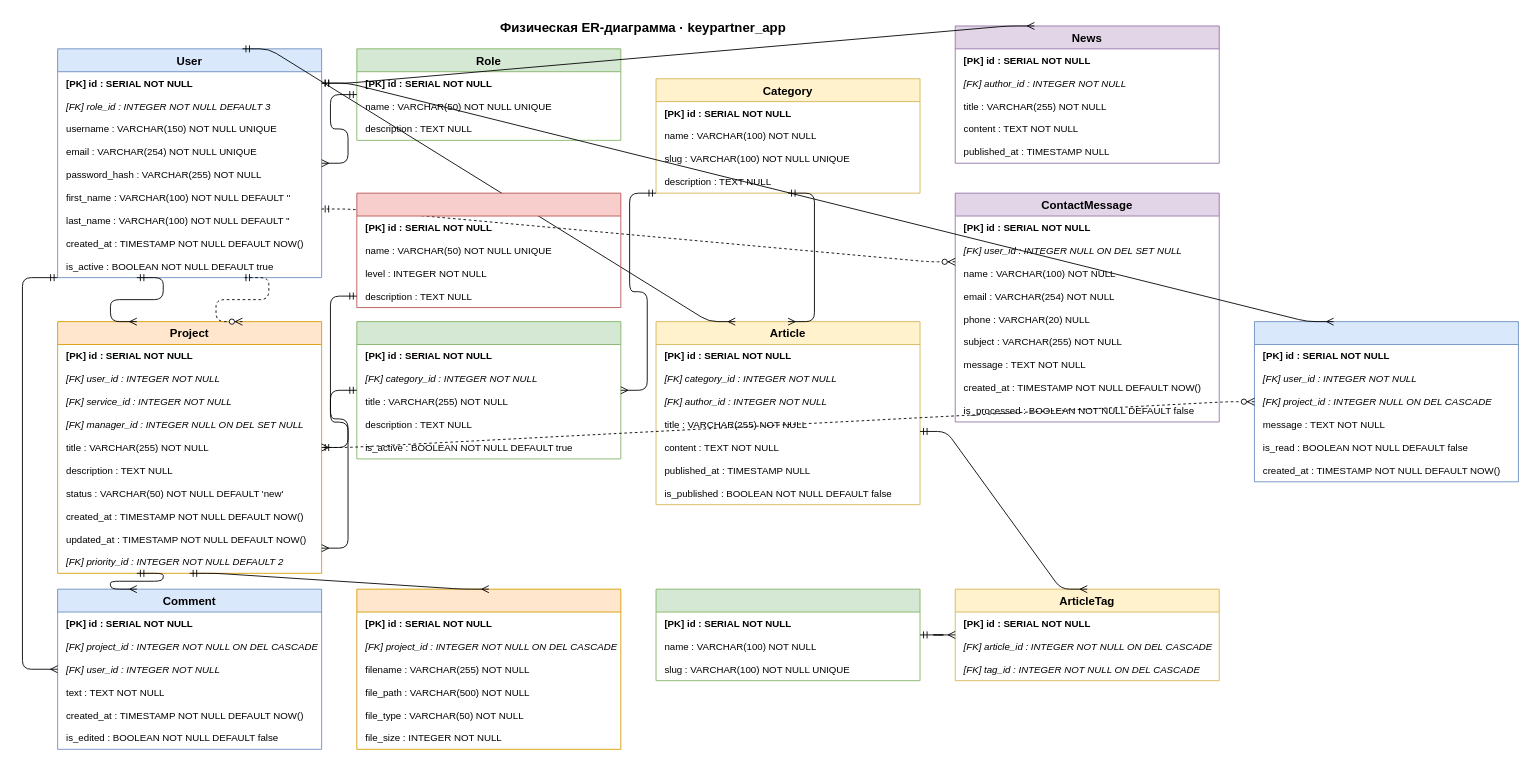
Some shapes in this 1534 by 765 pixel diagram are drawn without their labels. The box of each missing label's shape, as (x1, y1, x2, y2) in pixels:
Attachment: (356, 588, 621, 749)
Notification: (1254, 321, 1518, 482)
Priority: (356, 192, 621, 308)
Service: (356, 321, 621, 459)
Tag: (655, 588, 920, 681)
